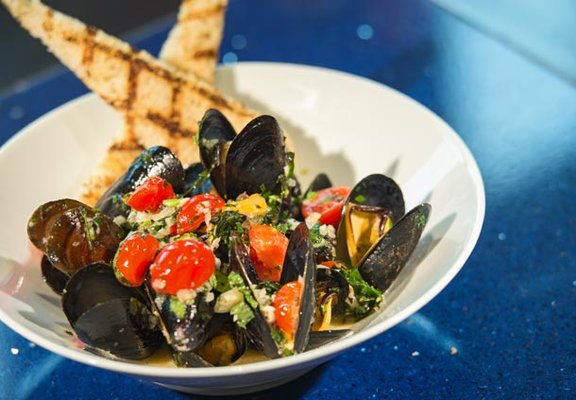sushi: (0, 47, 487, 387)
